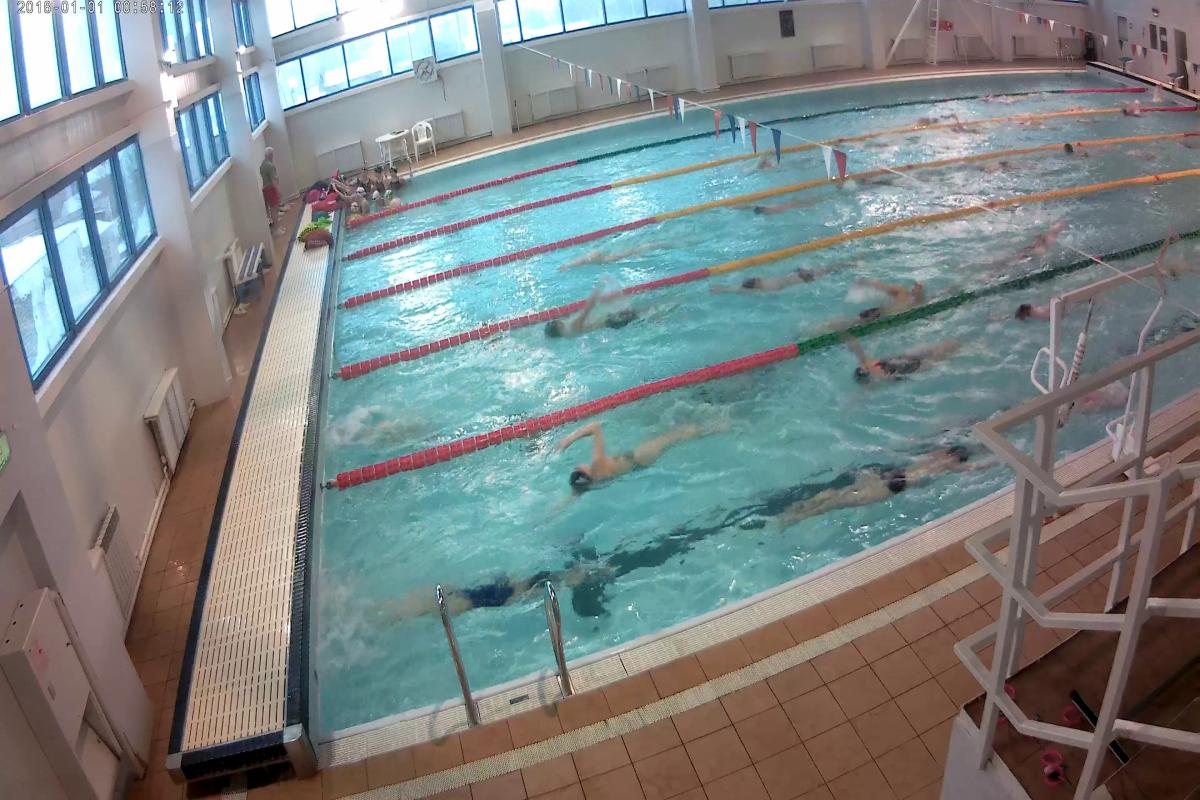swimmer: (775, 450, 970, 526), (389, 564, 603, 606), (561, 420, 723, 470), (837, 279, 944, 332), (843, 341, 967, 386), (723, 250, 853, 291), (546, 312, 648, 342), (1005, 226, 1075, 260), (746, 198, 838, 217), (994, 296, 1064, 318), (573, 244, 682, 258), (1158, 246, 1200, 276)
